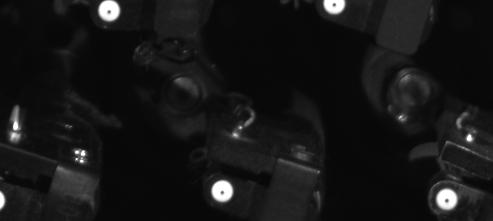fiber: (429, 181, 465, 216), (205, 174, 242, 208), (86, 1, 130, 27), (314, 1, 354, 20)
